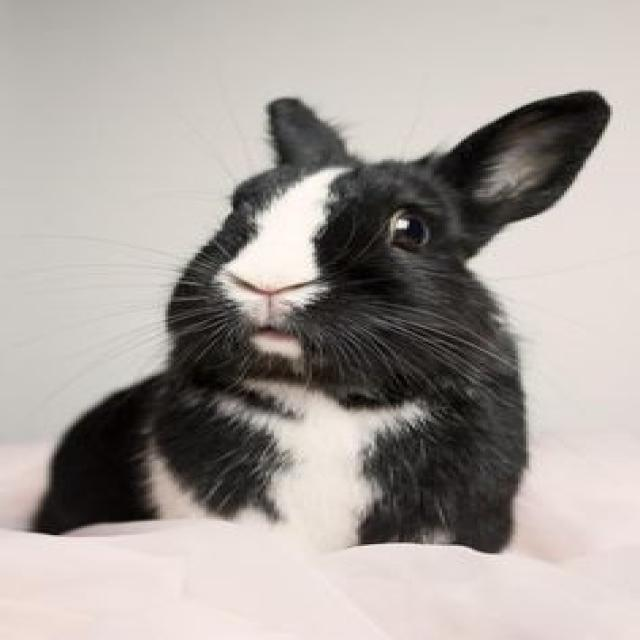Herbivorous: (33, 90, 613, 557)
